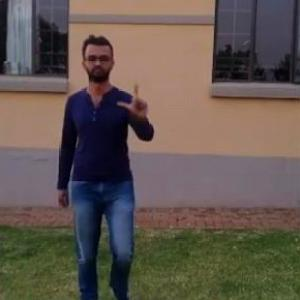land_hand: (117, 79, 151, 121)
